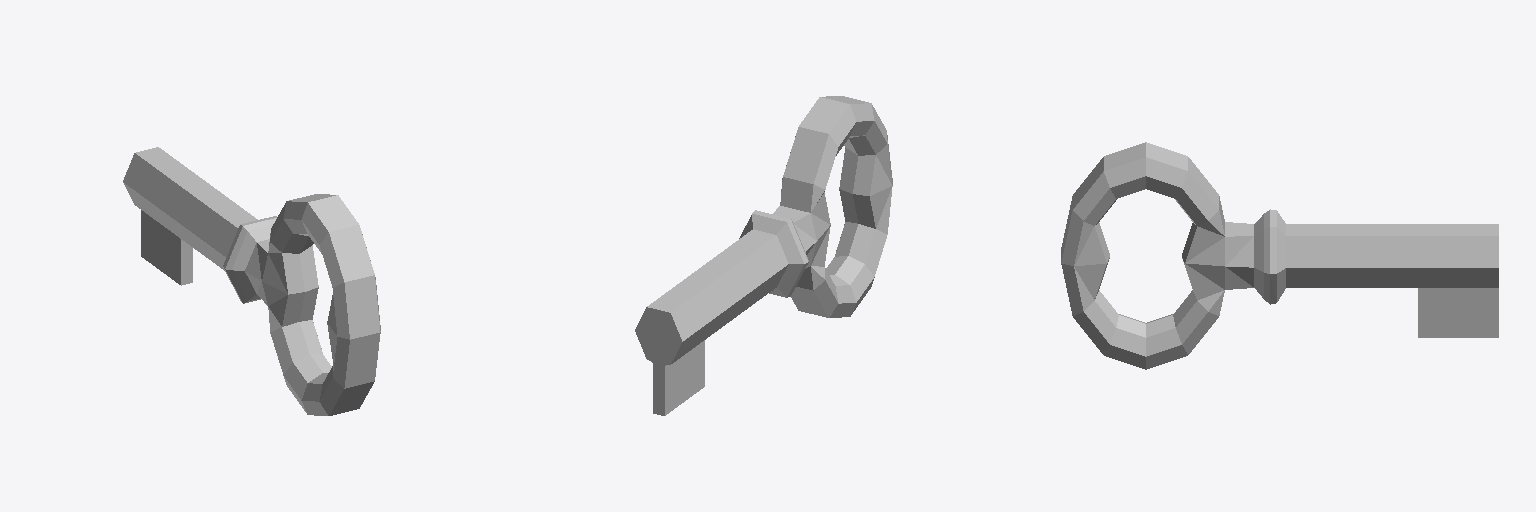
File: f_Key2.obj
The picture shows the model from 3 angles: view 1: azimuth 30°, elevation 25°; view 2: azimuth 150°, elevation 25°; view 3: azimuth 270°, elevation 25°; orthographic projection.
Visible parts, largest first — view 1: Key2; view 2: Key2; view 3: Key2.
Part boxes in pixels (bbox=[...]): Key2: bbox=[123, 147, 380, 415]; Key2: bbox=[635, 96, 892, 415]; Key2: bbox=[1061, 142, 1498, 369].
Size of the model in its own units: 0.498 by 1.41 by 2.63.